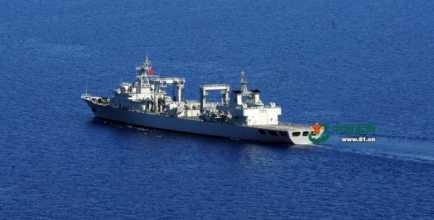warship: (70, 52, 338, 148)
